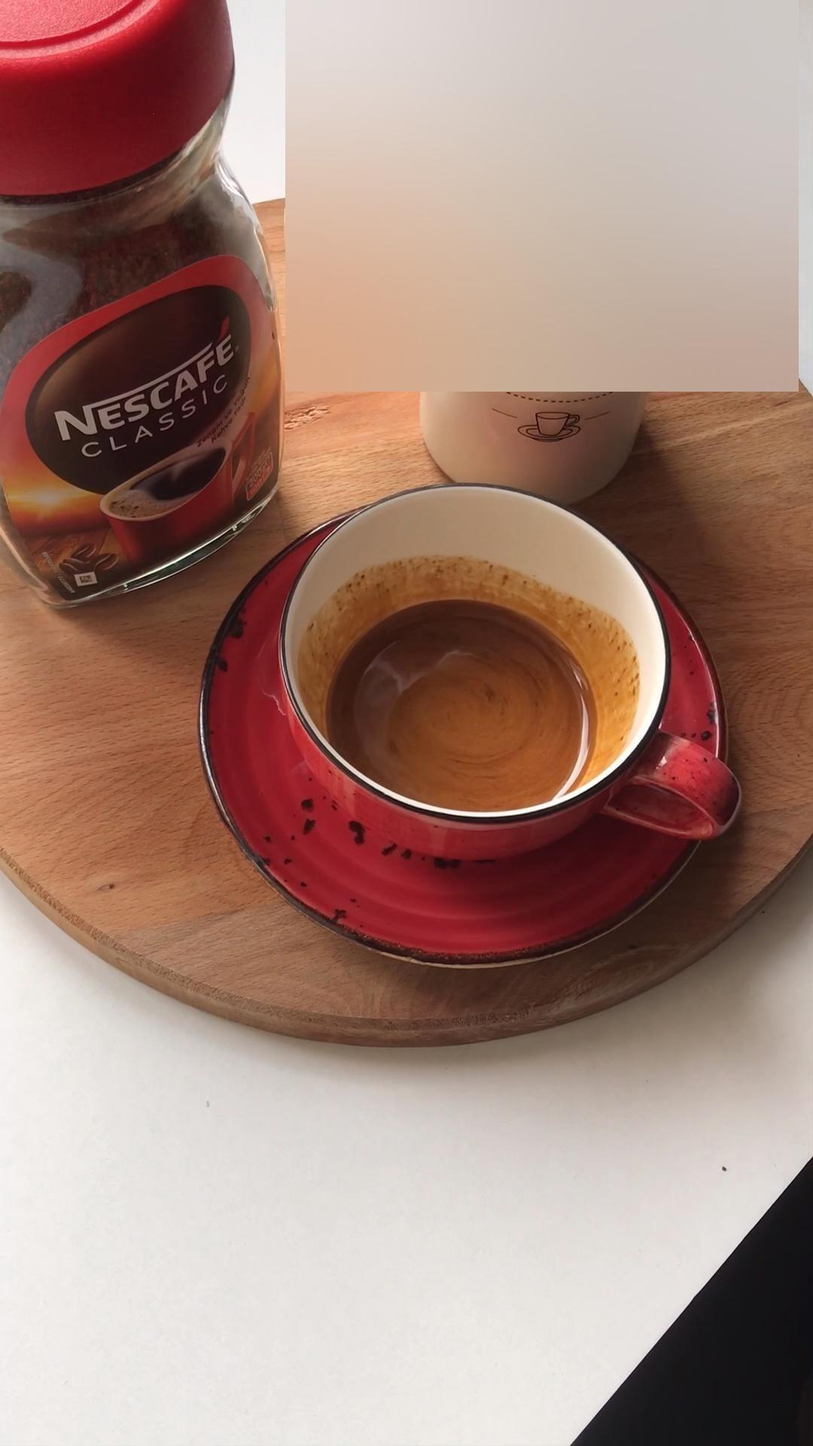cup-handle: (276, 481, 740, 865)
